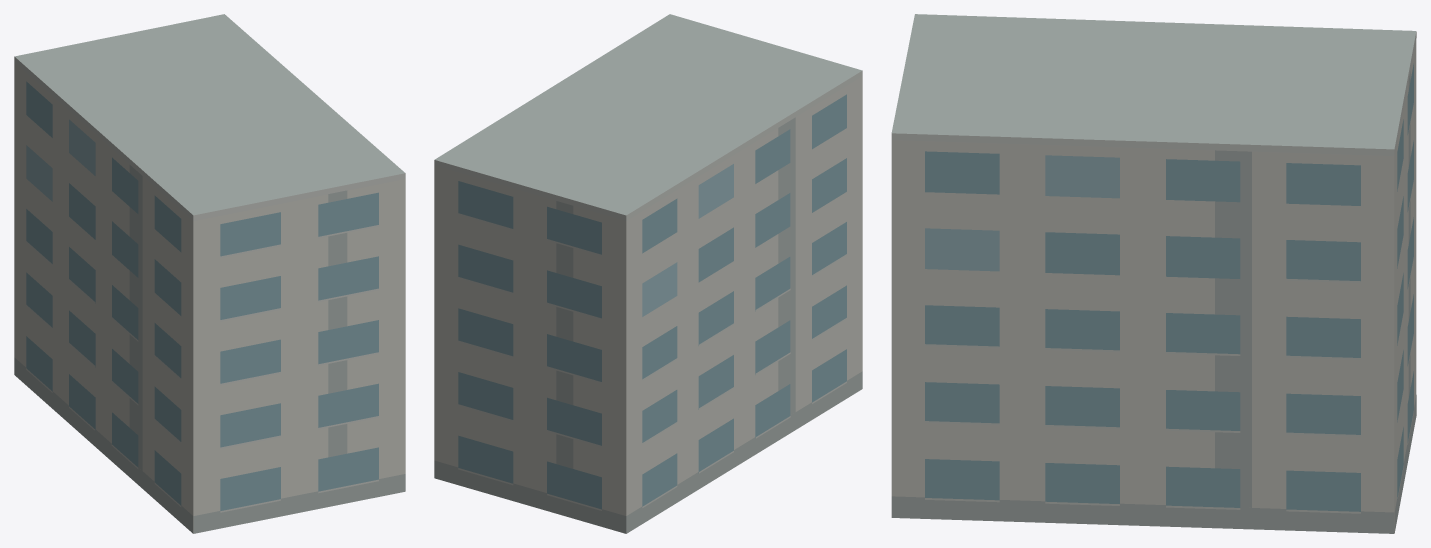
The model's file is survey-upis-32525674.glb.
3 views of the same model, side by side, from view 1: azimuth 30°, elevation 25°; view 2: azimuth 150°, elevation 25°; view 3: azimuth 270°, elevation 25° (orthographic). The views are drawn at different scales.
Parts seen in each view (by area): view 1: survey-upis-32525674.tmp; view 2: survey-upis-32525674.tmp; view 3: survey-upis-32525674.tmp.
Part boxes in pixels (x1,y1,x2,y2): survey-upis-32525674.tmp: (14,14,405,533); survey-upis-32525674.tmp: (434,14,862,533); survey-upis-32525674.tmp: (891,14,1416,533).
Bounding box in the file's own units: 10.43 × 13.8 × 17.09.
